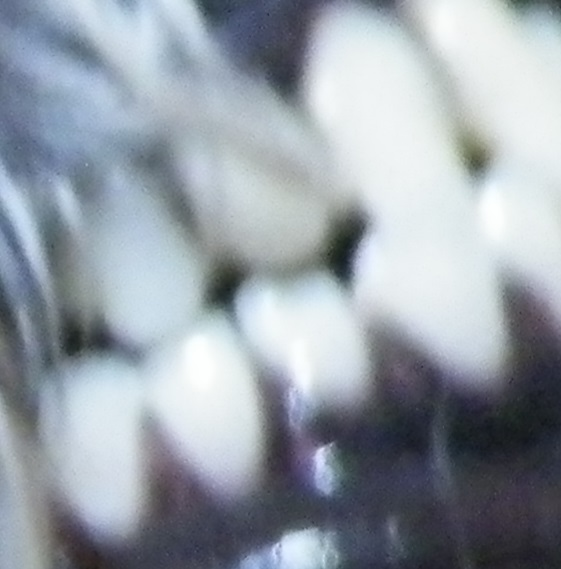boca: (22, 4, 552, 551)
